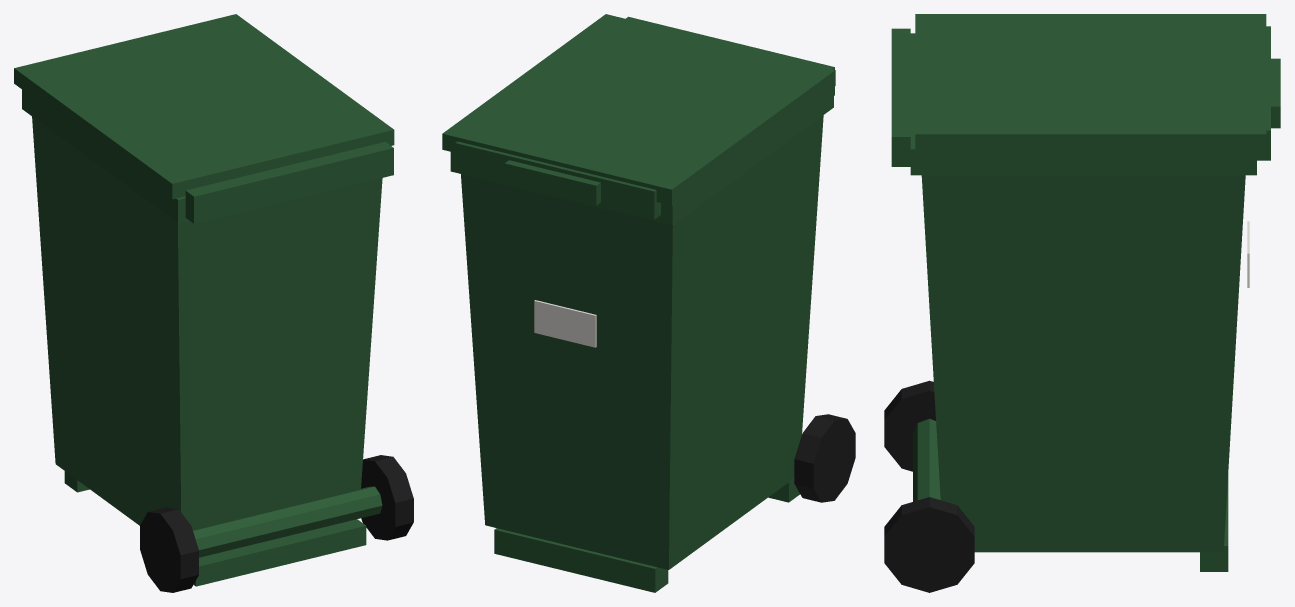
File: wheelie_bin.glb
The picture shows the model from 3 angles, left to right: view 1: azimuth 30°, elevation 25°; view 2: azimuth 150°, elevation 25°; view 3: azimuth 270°, elevation 25°; orthographic projection. The views are drawn at different scales.
Visible parts, largest first — view 1: WheelieBin, Lid; view 2: WheelieBin, Lid; view 3: WheelieBin, Lid.
Part boxes in pixels (x1,y1,x2,y2): WheelieBin: (22, 89, 413, 592); Lid: (14, 14, 394, 199); WheelieBin: (450, 16, 855, 592); Lid: (442, 14, 835, 219); WheelieBin: (884, 28, 1256, 592); Lid: (915, 14, 1280, 160).
Bounding box in the file's own units: 0.63 × 1.06 × 0.8351.
